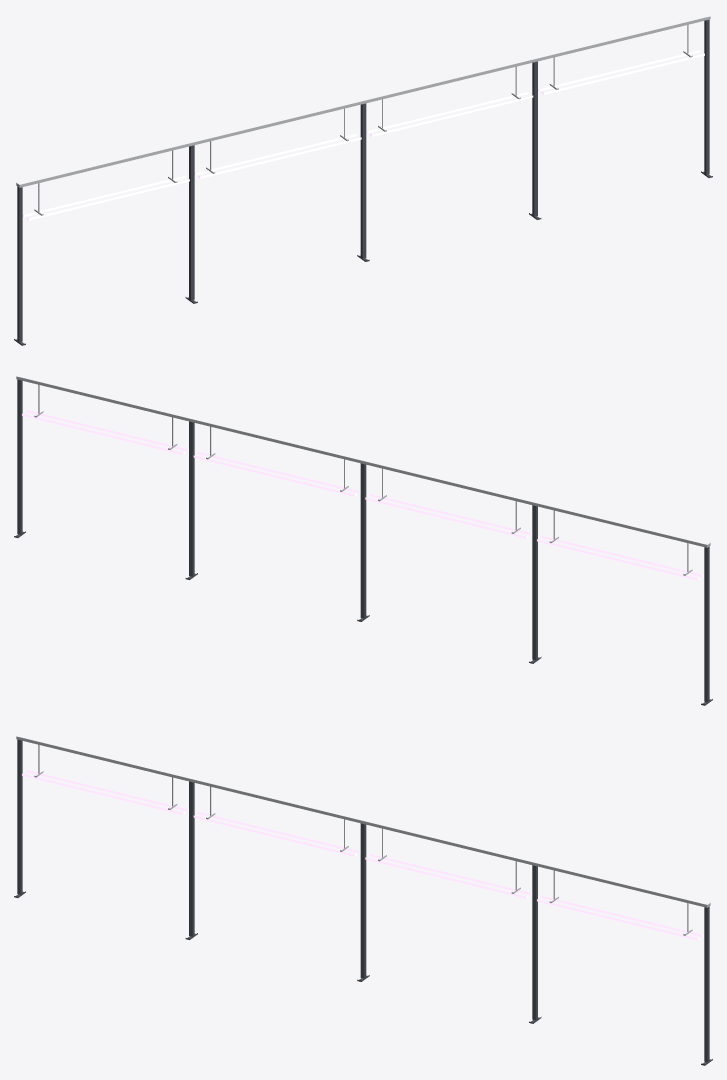
File: ext_grow_light_rack_02.glb
3 views of the same model, one above another, from view 1: azimuth 30°, elevation 25°; view 2: azimuth 150°, elevation 25°; view 3: azimuth 330°, elevation 25° (orthographic).
Parts seen in each view (by area): view 1: Posts, Light_Bars, Top_Beam; view 2: Posts, Light_Bars, Top_Beam; view 3: Posts, Light_Bars, Top_Beam.
Part boxes in pixels (bbox=[...]): Posts: bbox=[17, 19, 709, 342]; Light_Bars: bbox=[22, 50, 704, 220]; Top_Beam: bbox=[16, 16, 710, 187]; Posts: bbox=[17, 379, 709, 702]; Light_Bars: bbox=[22, 410, 704, 580]; Top_Beam: bbox=[16, 376, 710, 547]; Posts: bbox=[17, 739, 709, 1062]; Light_Bars: bbox=[22, 770, 704, 940]; Top_Beam: bbox=[16, 736, 710, 907].
Size of the model in its own units: 10 by 2.2 by 0.2.
